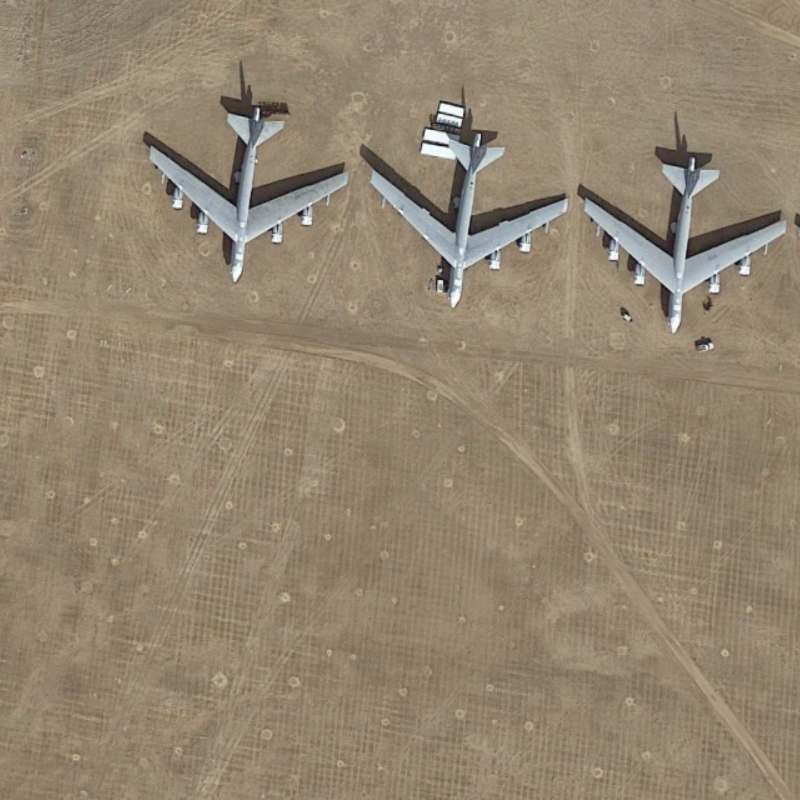A8: (578, 140, 791, 340), (142, 93, 354, 289), (366, 124, 576, 311)
